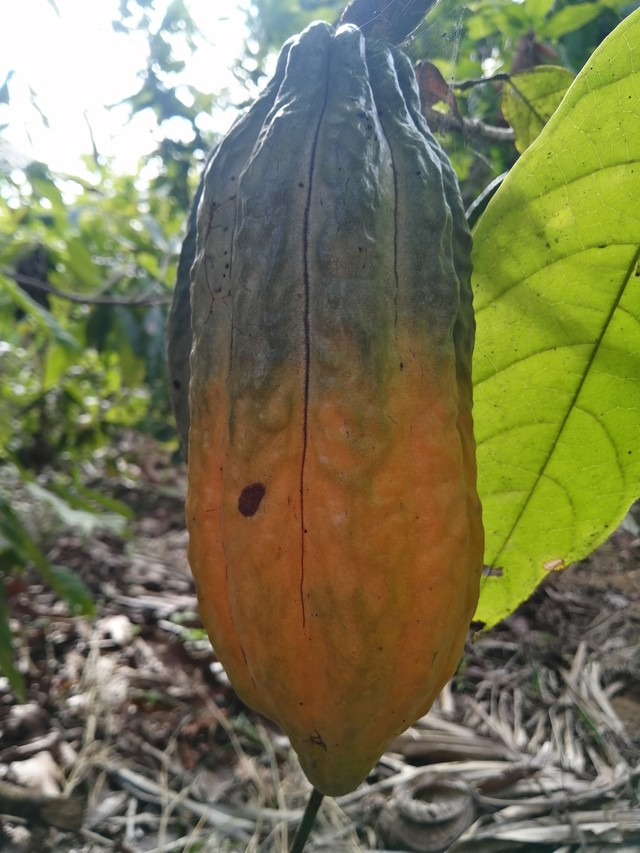moniliophthora perniciosa: (163, 17, 510, 806)
